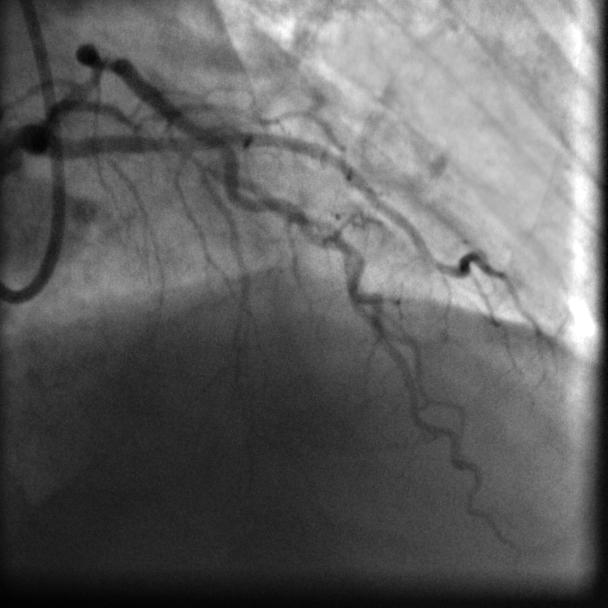Stenosis: (86, 43, 121, 82)
